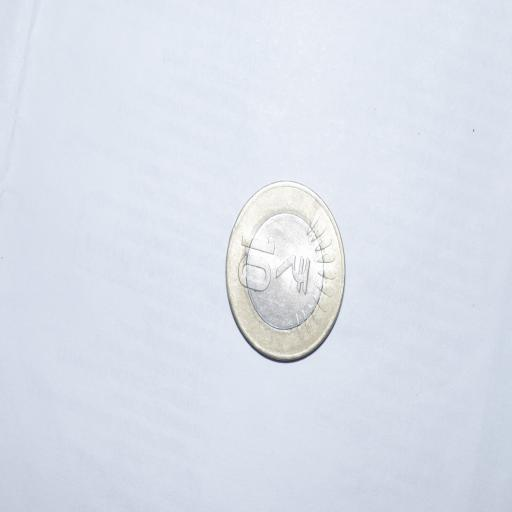rupee10: (225, 181, 346, 362)
